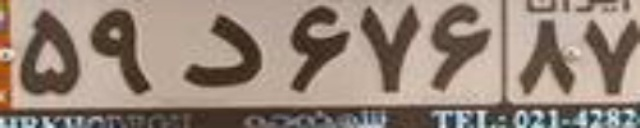5: (17, 8, 80, 94)
6: (428, 3, 490, 93), (286, 7, 350, 94)
7: (358, 4, 425, 94), (583, 15, 639, 95)
8: (513, 16, 574, 95)
9: (90, 6, 152, 96)
dal: (181, 12, 262, 88)
